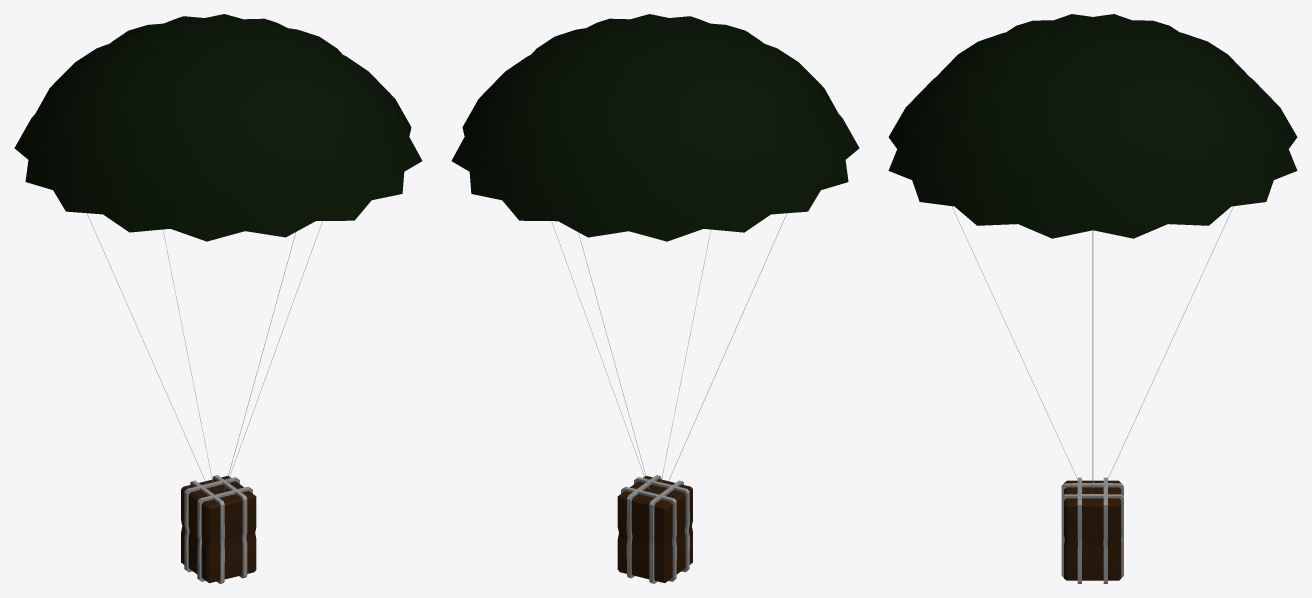
The model's file is Supply Drop.FBX.
3 views of the same model, side by side, from view 1: azimuth 30°, elevation 25°; view 2: azimuth 150°, elevation 25°; view 3: azimuth 270°, elevation 25° (orthographic).
Parts seen in each view (by area): view 1: Sphere001, Box001, Line001; view 2: Sphere001, Box001, Line001; view 3: Sphere001, Box001, Line001.
Part boxes in pixels (x1=…): Sphere001: x1=14, y1=14, x2=422, y2=241; Box001: x1=181, y1=475, x2=256, y2=583; Line001: x1=87, y1=213, x2=322, y2=492; Sphere001: x1=451, y1=14, x2=859, y2=241; Box001: x1=617, y1=475, x2=692, y2=583; Line001: x1=551, y1=213, x2=786, y2=492; Sphere001: x1=888, y1=14, x2=1297, y2=238; Box001: x1=1061, y1=477, x2=1123, y2=583; Line001: x1=952, y1=206, x2=1233, y2=493.
Bounding box in the file's own units: 9178 × 13495 × 9359.
